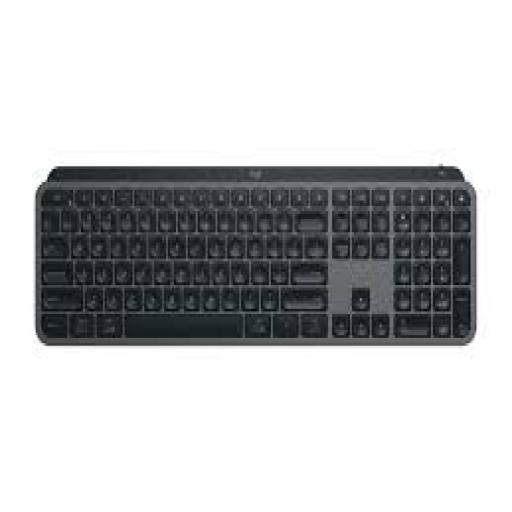KEYBOARD-2: (36, 166, 474, 343)
